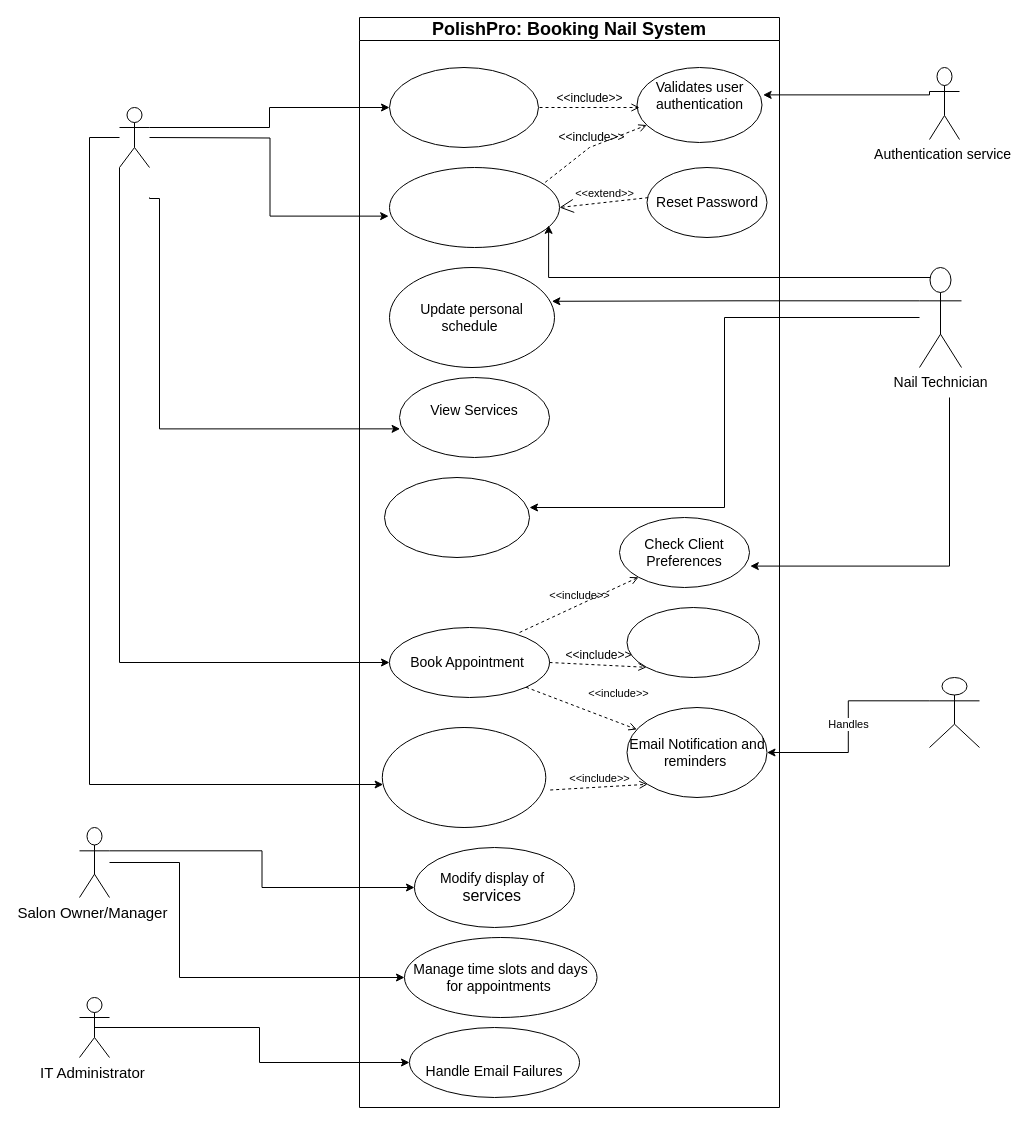
Image size: 1032x1125. Some labels were removed from this diagram. The shapes that lost their labels are listed below. From the top down, each one's centre as x and y in pixels, then its label:
At pixel 463 107: "Register account".
At pixel 134 137: "Client".
At pixel 474 207: "Login".
At pixel 457 517: "View Assigned Appointments".
At pixel 693 642: "Appointment Confirmation message".
At pixel 954 712: "Email Service".
At pixel 463 777: "Cancel/Reschedule Appointment".
